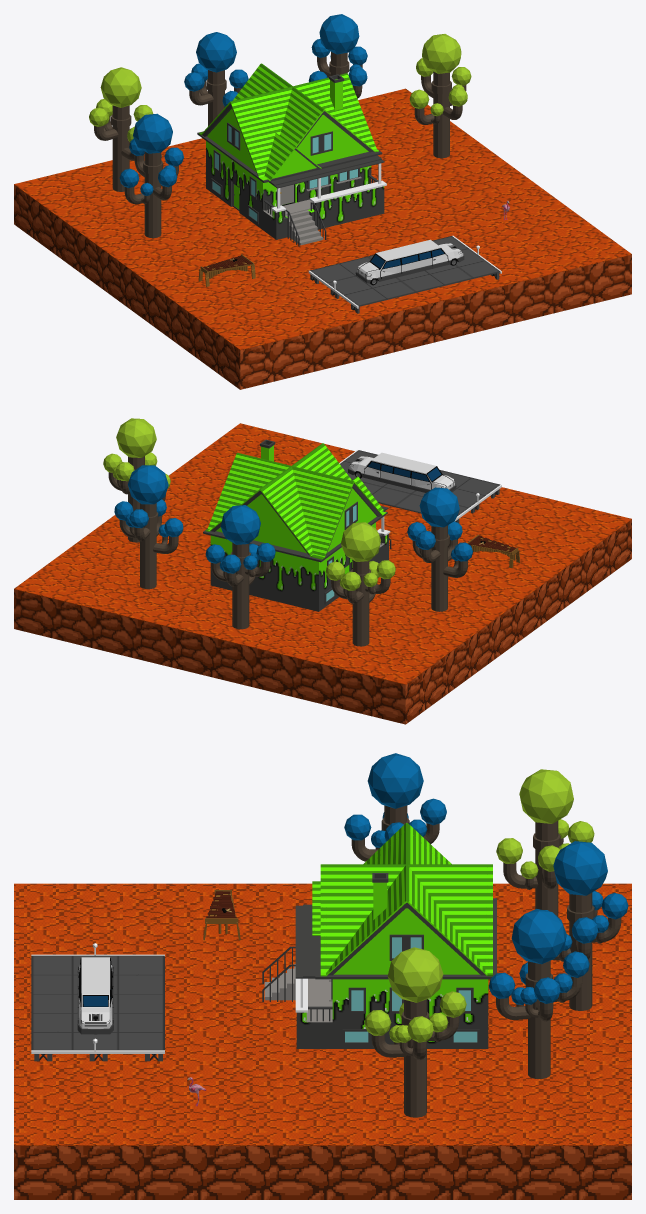
3 views of the same model, one above another, from view 1: azimuth 30°, elevation 25°; view 2: azimuth 150°, elevation 25°; view 3: azimuth 270°, elevation 25° (orthographic). The views are drawn at different scales.
Parts seen in each view (by area): view 1: Cube.001, Cube.754, VEHICLES_LIMOUSINE, OBJRANDOM_MARIMBA; view 2: Cube.001, Cube.754, VEHICLES_LIMOUSINE, OBJRANDOM_MARIMBA; view 3: Cube.001, Cube.754, VEHICLES_LIMOUSINE, OBJRANDOM_MARIMBA.
Part boxes in pixels (<box>): Cube.001: <box>14,14,631,389</box>; Cube.754: <box>197,63,386,246</box>; VEHICLES_LIMOUSINE: <box>355,239,464,285</box>; OBJRANDOM_MARIMBA: <box>198,254,255,286</box>; Cube.001: <box>14,418,631,724</box>; Cube.754: <box>203,439,391,611</box>; VEHICLES_LIMOUSINE: <box>348,452,456,492</box>; OBJRANDOM_MARIMBA: <box>467,534,520,568</box>; Cube.001: <box>14,753,631,1199</box>; Cube.754: <box>262,823,496,1048</box>; VEHICLES_LIMOUSINE: <box>77,957,113,1034</box>; OBJRANDOM_MARIMBA: <box>203,890,240,940</box>.
Bounding box in the file's own units: 4000 × 1765 × 4000.
Materials: 35 (5 with a texture image).
